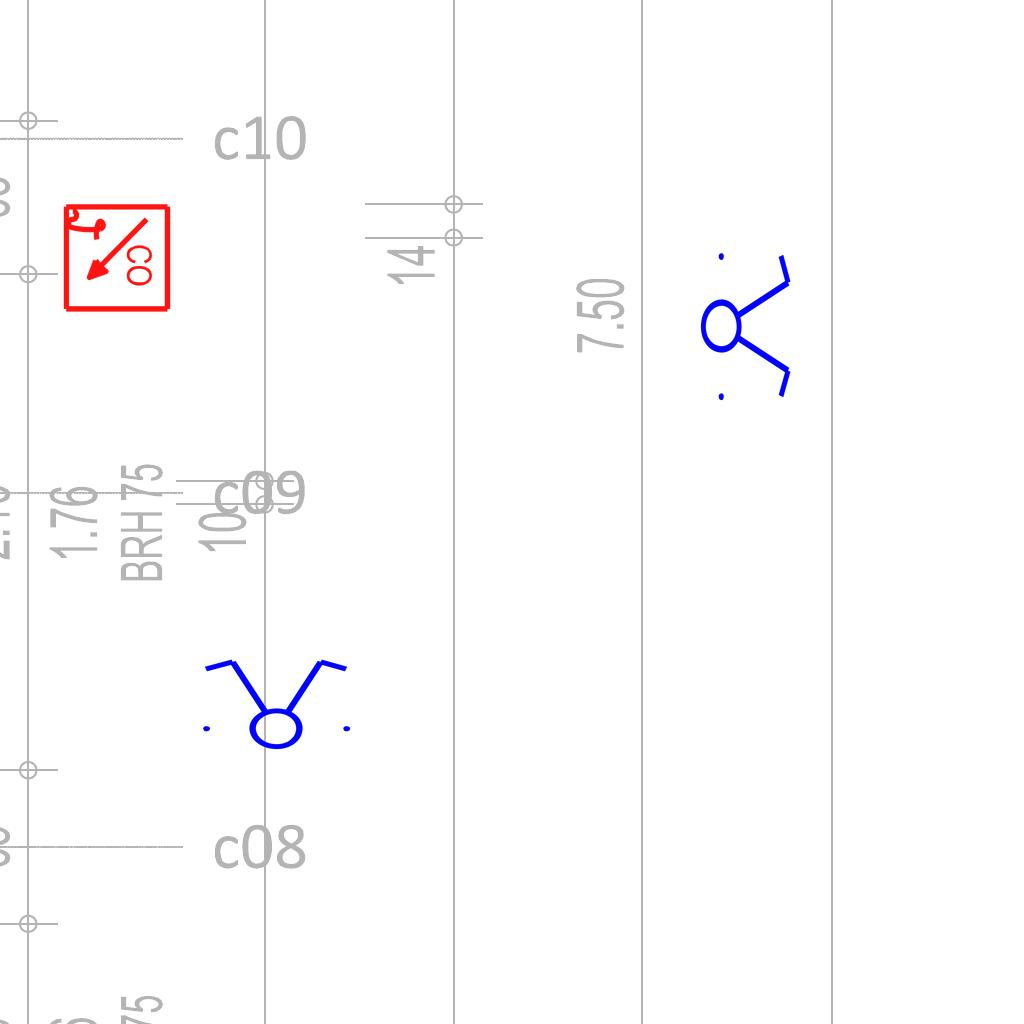ROA_Rauchmelder_optisch_mit_Signalgeber_(Sockelsirene): (59, 202, 172, 315)
Serienschalter: (699, 241, 795, 409), (191, 655, 359, 751)
